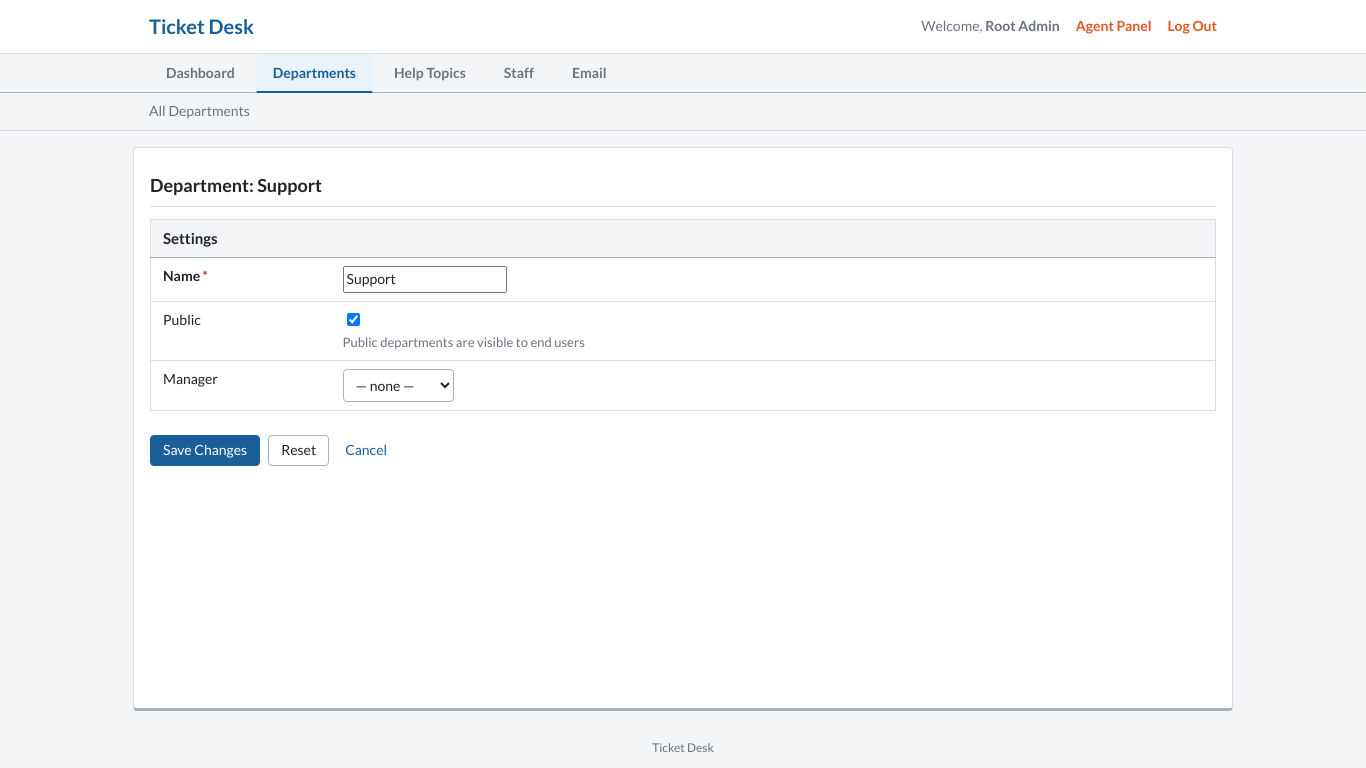
no changes sends no PATCH and says so
Click the button "Save Changes": {"x": 205, "y": 450} 150,435 -> 260,466
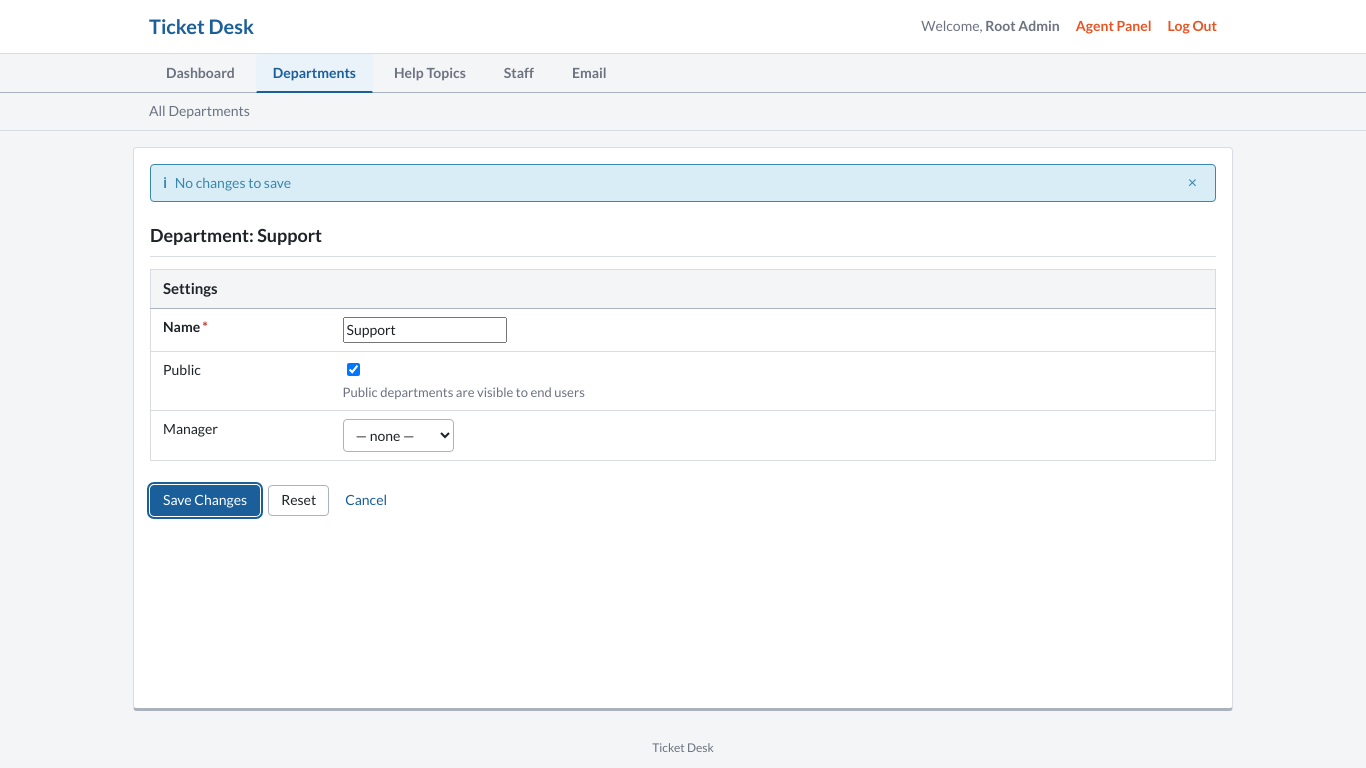
Check: the message shows "No changes to save", box 175,174 -> 291,191
